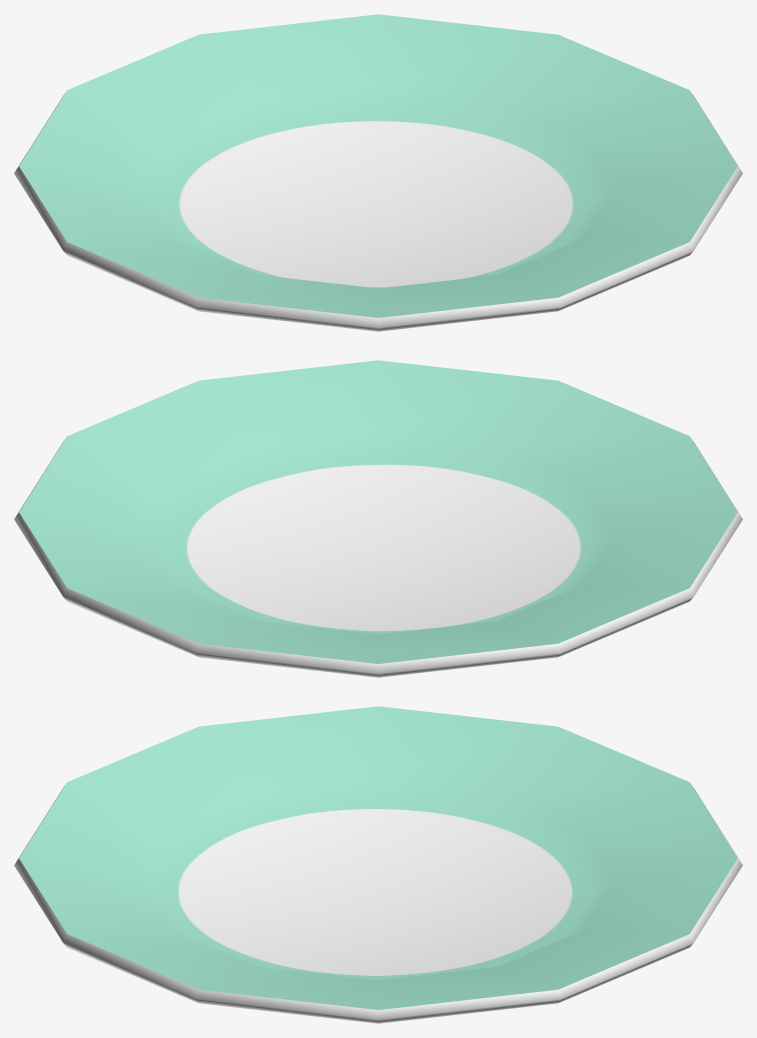
Rendered from plate2.fbx.
The picture shows the model from 3 angles, top to bottom: view 1: azimuth 30°, elevation 25°; view 2: azimuth 150°, elevation 25°; view 3: azimuth 270°, elevation 25°; orthographic projection.
Parts seen in each view (by area): view 1: pCylinder5; view 2: pCylinder5; view 3: pCylinder5.
Boxes of the visible parts, <box> form: pCylinder5: <box>14,14,742,331</box>; pCylinder5: <box>14,360,742,677</box>; pCylinder5: <box>14,706,742,1023</box>.
Bounding box in the file's own units: 1.31 × 0.0906 × 1.31.
Materials: 1 (1 with a texture image).
